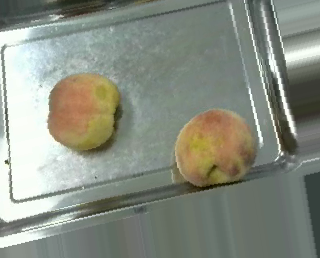Peach: (174, 107, 255, 186), (47, 72, 119, 150)
